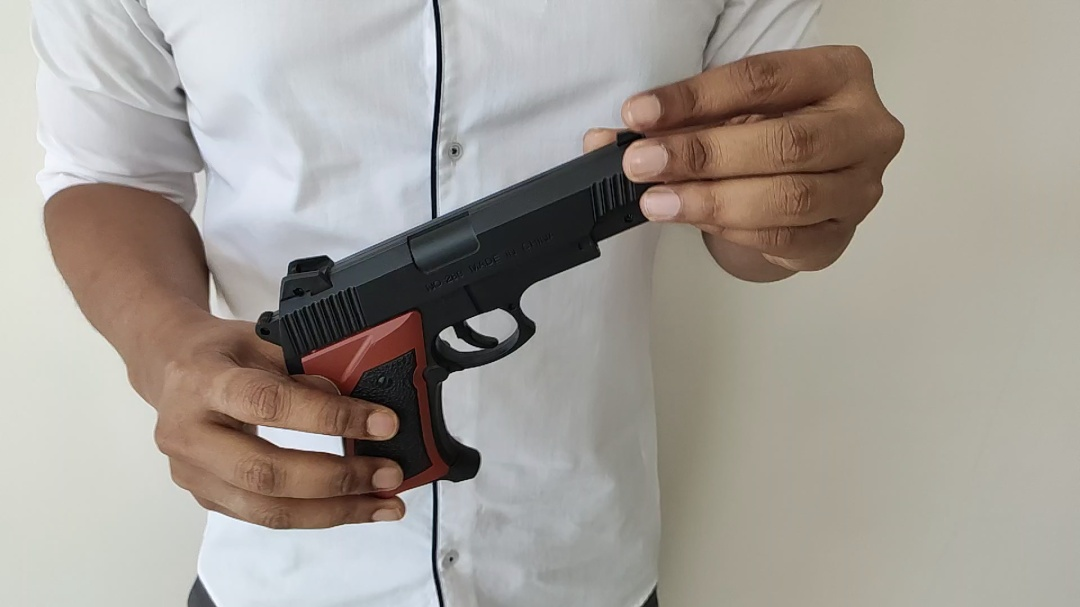gun: (304, 231, 655, 397)
